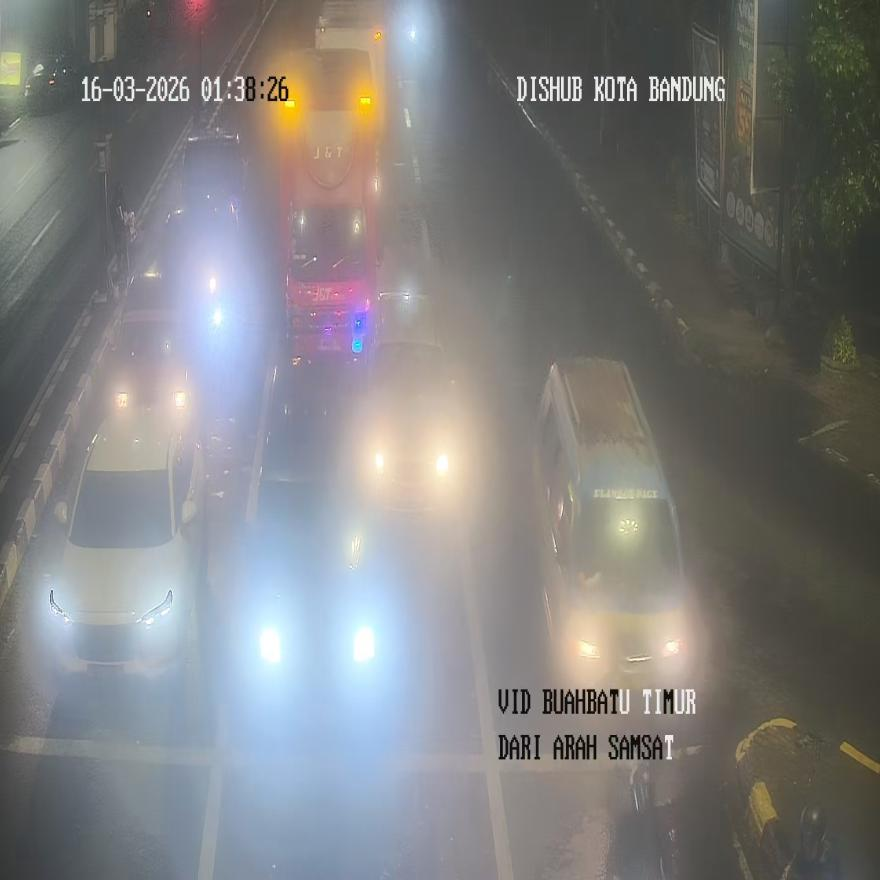Mobil: (530, 356, 693, 691), (44, 360, 207, 681), (160, 122, 251, 329)
Truk berat: (276, 2, 388, 363)
